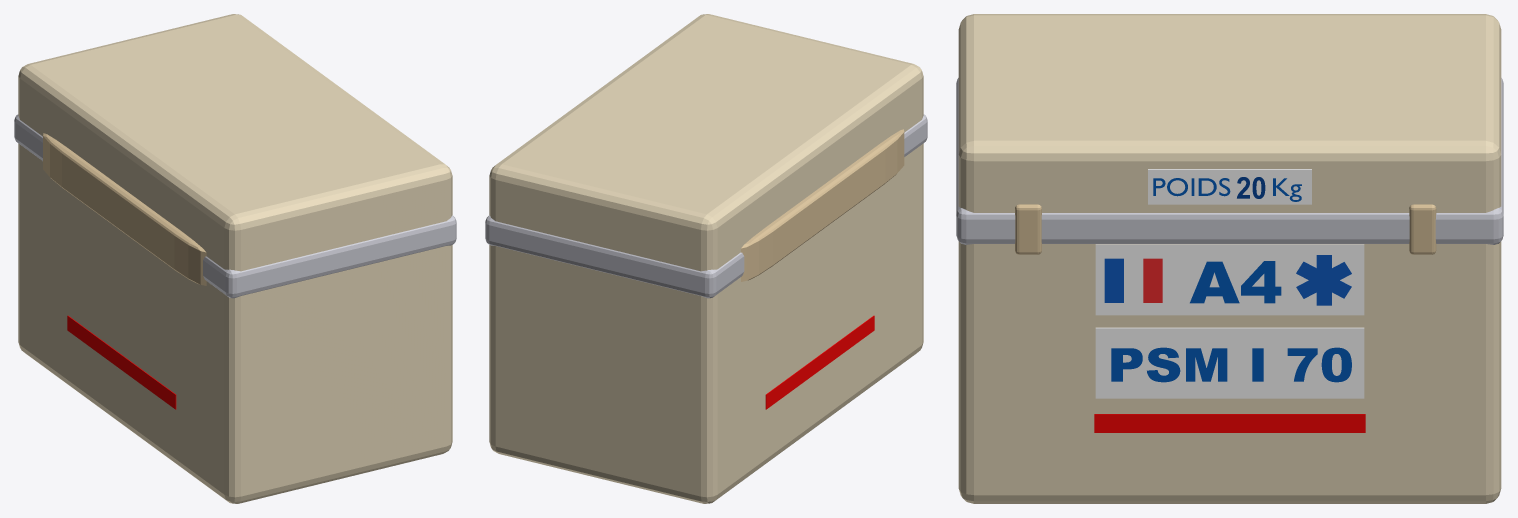
The model's file is MalleA4.fbx.
The picture shows the model from 3 angles, left to right: view 1: azimuth 30°, elevation 25°; view 2: azimuth 150°, elevation 25°; view 3: azimuth 270°, elevation 25°; orthographic projection. The views are drawn at different scales.
Parts seen in each view (by area): view 1: Malle_PSM, Anneau, Loquet.002, Bande_Rouge; view 2: Malle_PSM, Anneau, Loquet.002, Bande_Rouge; view 3: Malle_PSM, Anneau, Etiquette_PSM, Etiquette_A3.001, Bande_Rouge, Etiquette_A3, Texte_PSM, Drabeau Blanc, Texte_A3, Samu, Loquet, Loquet.001 (+1 smaller).
Part boxes in pixels (left/top/right/bottom): Malle_PSM: left=18, top=14, right=452, bottom=503; Anneau: left=14, top=114, right=456, bottom=298; Loquet.002: left=43, top=133, right=206, bottom=285; Bande_Rouge: left=67, top=315, right=176, bottom=409; Malle_PSM: left=489, top=14, right=923, bottom=503; Anneau: left=485, top=114, right=927, bottom=298; Loquet.002: left=741, top=129, right=904, bottom=281; Bande_Rouge: left=765, top=315, right=874, bottom=409; Malle_PSM: left=958, top=14, right=1501, bottom=503; Anneau: left=956, top=78, right=1503, bottom=244; Etiquette_PSM: left=1095, top=327, right=1364, bottom=398; Etiquette_A3.001: left=1095, top=244, right=1364, bottom=315; Bande_Rouge: left=1094, top=414, right=1365, bottom=432; Etiquette_A3: left=1148, top=169, right=1311, bottom=204; Texte_PSM: left=1111, top=347, right=1351, bottom=382; Drabeau Blanc: left=1104, top=258, right=1162, bottom=302; Texte_A3: left=1190, top=261, right=1281, bottom=303; Samu: left=1296, top=255, right=1351, bottom=305; Loquet: left=1409, top=204, right=1436, bottom=254; Loquet.001: left=1015, top=204, right=1041, bottom=254.
Size of the model in its own units: 33.45 by 39 by 53.5.
